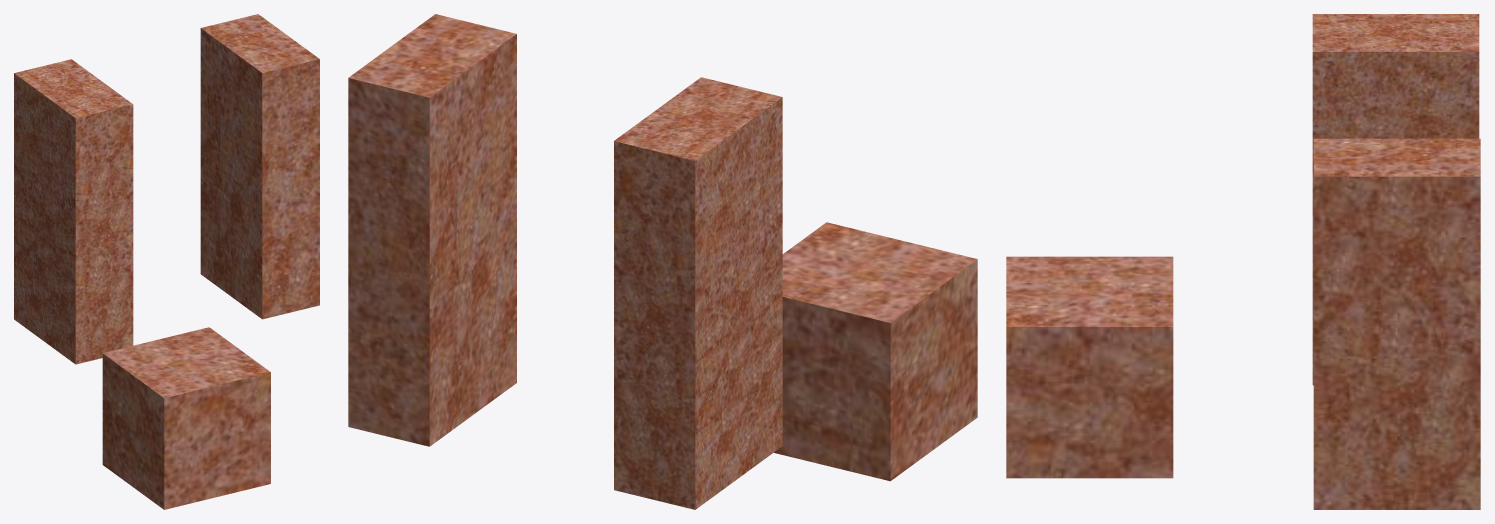
The model's file is box-building.obj.
3 renders of one model, left to right at view 1: azimuth 30°, elevation 25°; view 2: azimuth 150°, elevation 25°; view 3: azimuth 270°, elevation 25°, orthographic. The views are drawn at different scales.
Visible parts, largest first — view 1: Cube.002, Cube, Cube.001; view 2: Cube.002, Cube, Cube.001; view 3: Cube.002, Cube.001, Cube.
Part boxes in pixels (left/top/right/bottom): Cube.002: left=200, top=14, right=319, bottom=319; Cube: left=14, top=59, right=133, bottom=364; Cube.001: left=102, top=327, right=270, bottom=509; Cube.002: left=348, top=14, right=516, bottom=446; Cube: left=614, top=77, right=782, bottom=509; Cube.001: left=774, top=222, right=977, bottom=481; Cube.002: left=1313, top=138, right=1480, bottom=509; Cube.001: left=1006, top=256, right=1173, bottom=478; Cube: left=1312, top=14, right=1479, bottom=385.
Size of the model in its own units: 5.04 by 5.42 by 5.68.
Materials: 1 (1 with a texture image).
